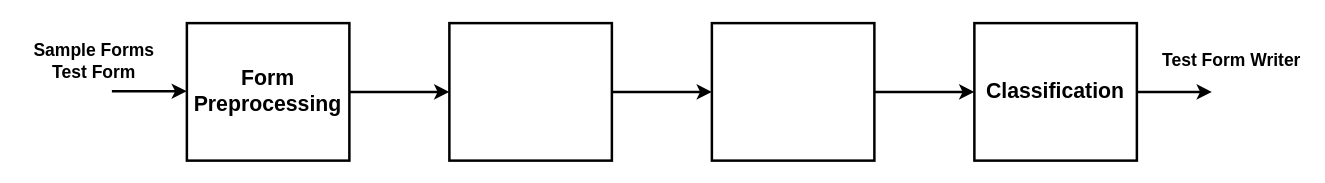
This 1325x183 diagram has some shape labels left out. Each missing label, with the centre of its shape:
Feature Extraction: (792,91)
Image Segmentation: (530,91)
